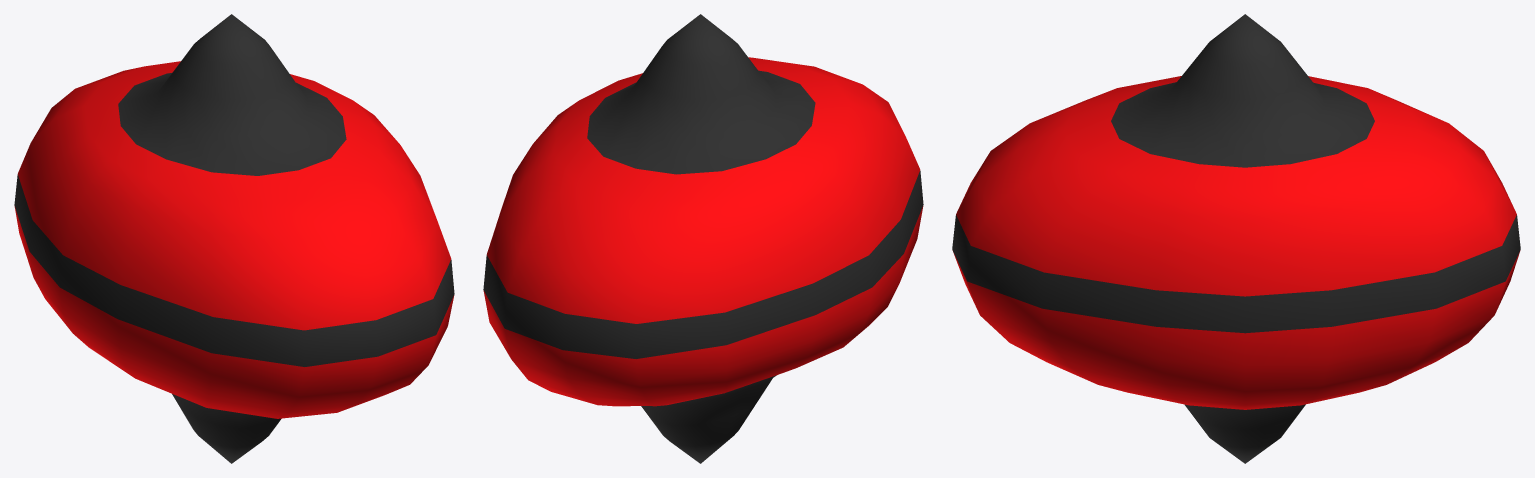
Rendered from spike_bomb.glb.
3 views of the same model, side by side, from view 1: azimuth 30°, elevation 25°; view 2: azimuth 150°, elevation 25°; view 3: azimuth 270°, elevation 25° (orthographic).
Visible parts, largest first — view 1: Sphere; view 2: Sphere; view 3: Sphere.
Part boxes in pixels (x1=…): Sphere: x1=14, y1=14, x2=454, y2=463; Sphere: x1=483, y1=14, x2=923, y2=463; Sphere: x1=952, y1=14, x2=1520, y2=463.
Bounding box in the file's own units: 2 × 2.5 × 2.87.
